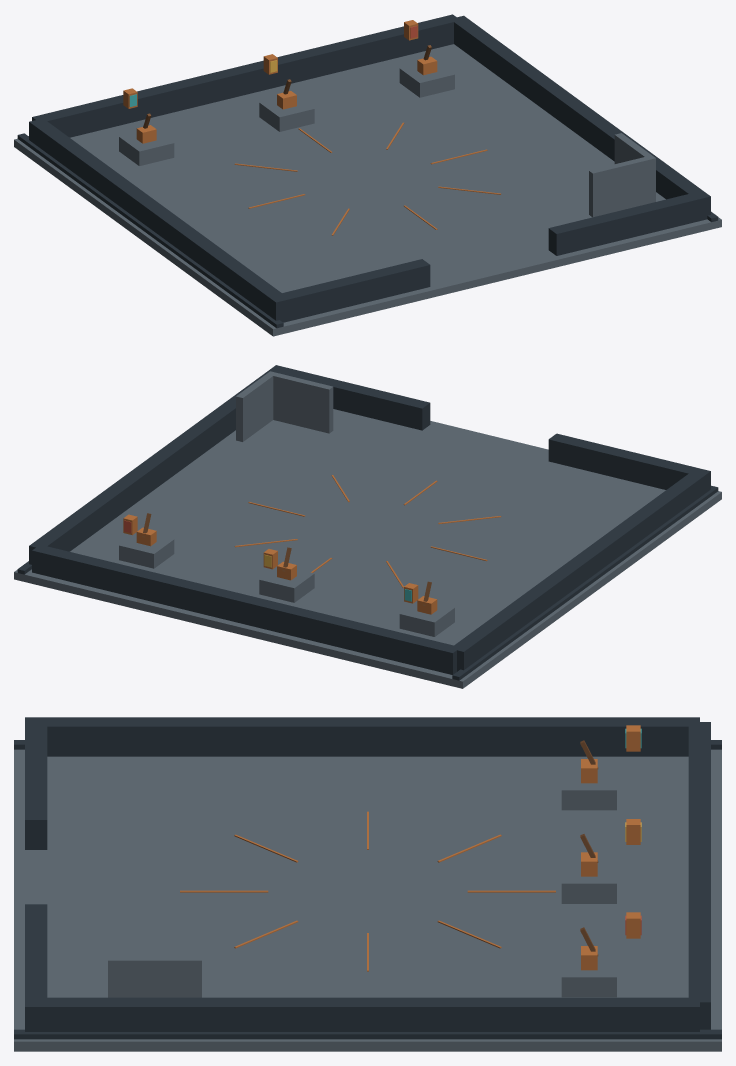
Rendered from warden_mechanism.glb.
The picture shows the model from 3 angles, top to bottom: view 1: azimuth 30°, elevation 25°; view 2: azimuth 150°, elevation 25°; view 3: azimuth 270°, elevation 25°; orthographic projection. The views are drawn at different scales.
Visible parts, largest first — view 1: warden_mechanism; view 2: warden_mechanism; view 3: warden_mechanism.
Part boxes in pixels (x1=…): warden_mechanism: x1=14, y1=14, x2=721, y2=336; warden_mechanism: x1=14, y1=365, x2=721, y2=688; warden_mechanism: x1=14, y1=717, x2=721, y2=1051.
Size of the model in its own units: 64 by 8 by 64.
